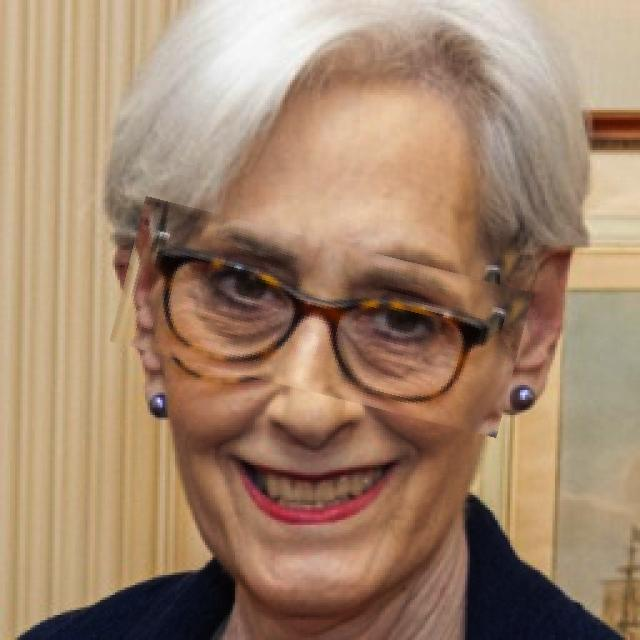glasses: (116, 219, 527, 415)
